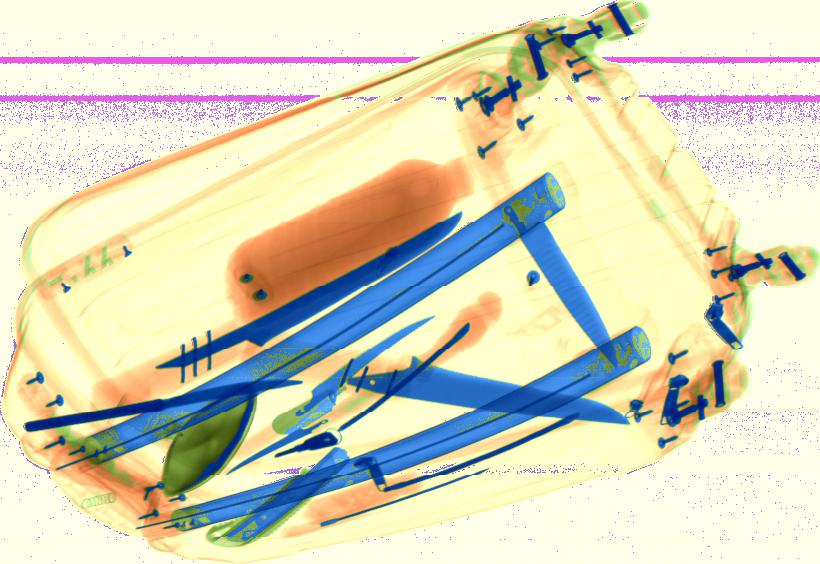Knife: (143, 208, 464, 384), (465, 123, 622, 369), (329, 349, 637, 427), (293, 310, 440, 415), (24, 377, 304, 432), (227, 397, 366, 472), (272, 390, 341, 432)
